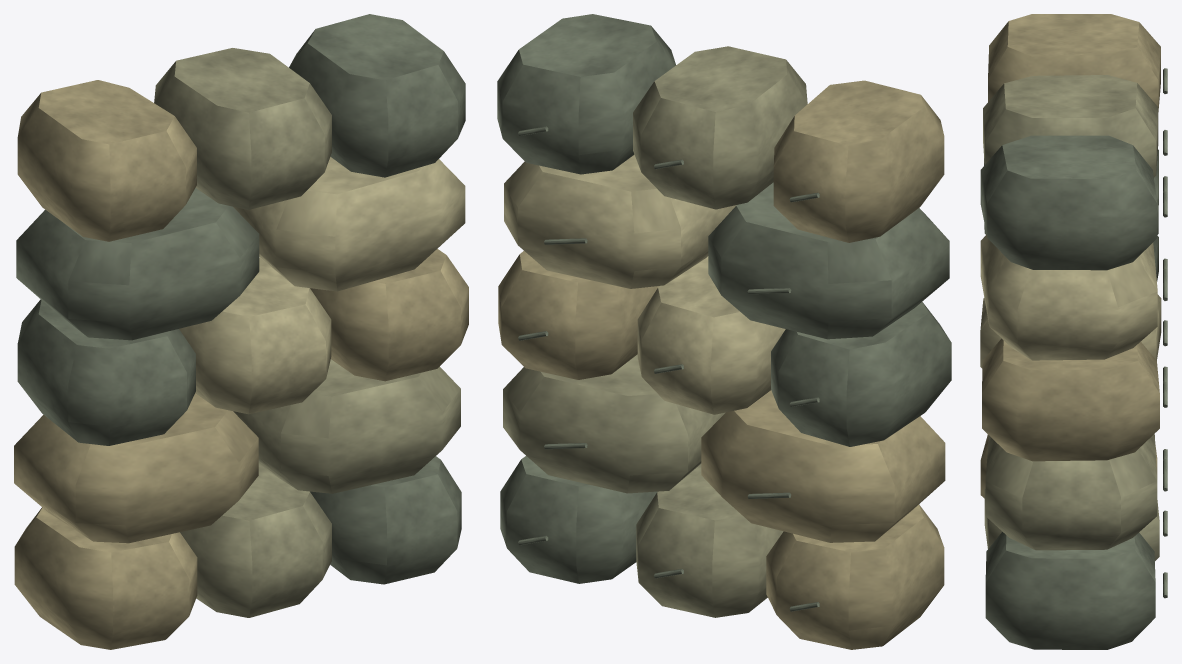
File: masonry-wall-3.fbx
3 views of the same model, side by side, from view 1: azimuth 30°, elevation 25°; view 2: azimuth 150°, elevation 25°; view 3: azimuth 270°, elevation 25° (orthographic). The views are drawn at different scales.
Visible parts, largest first — view 1: masonry-wall-3__Geometry; view 2: masonry-wall-3__Geometry; view 3: masonry-wall-3__Geometry.
Part boxes in pixels (left/top/right/bottom): masonry-wall-3__Geometry: left=14, top=14, right=468, bottom=649; masonry-wall-3__Geometry: left=497, top=14, right=951, bottom=649; masonry-wall-3__Geometry: left=980, top=14, right=1167, bottom=649.
Bounding box in the file's own units: 0.9841 × 1.19 × 0.428.
1 material, 1 textured.
